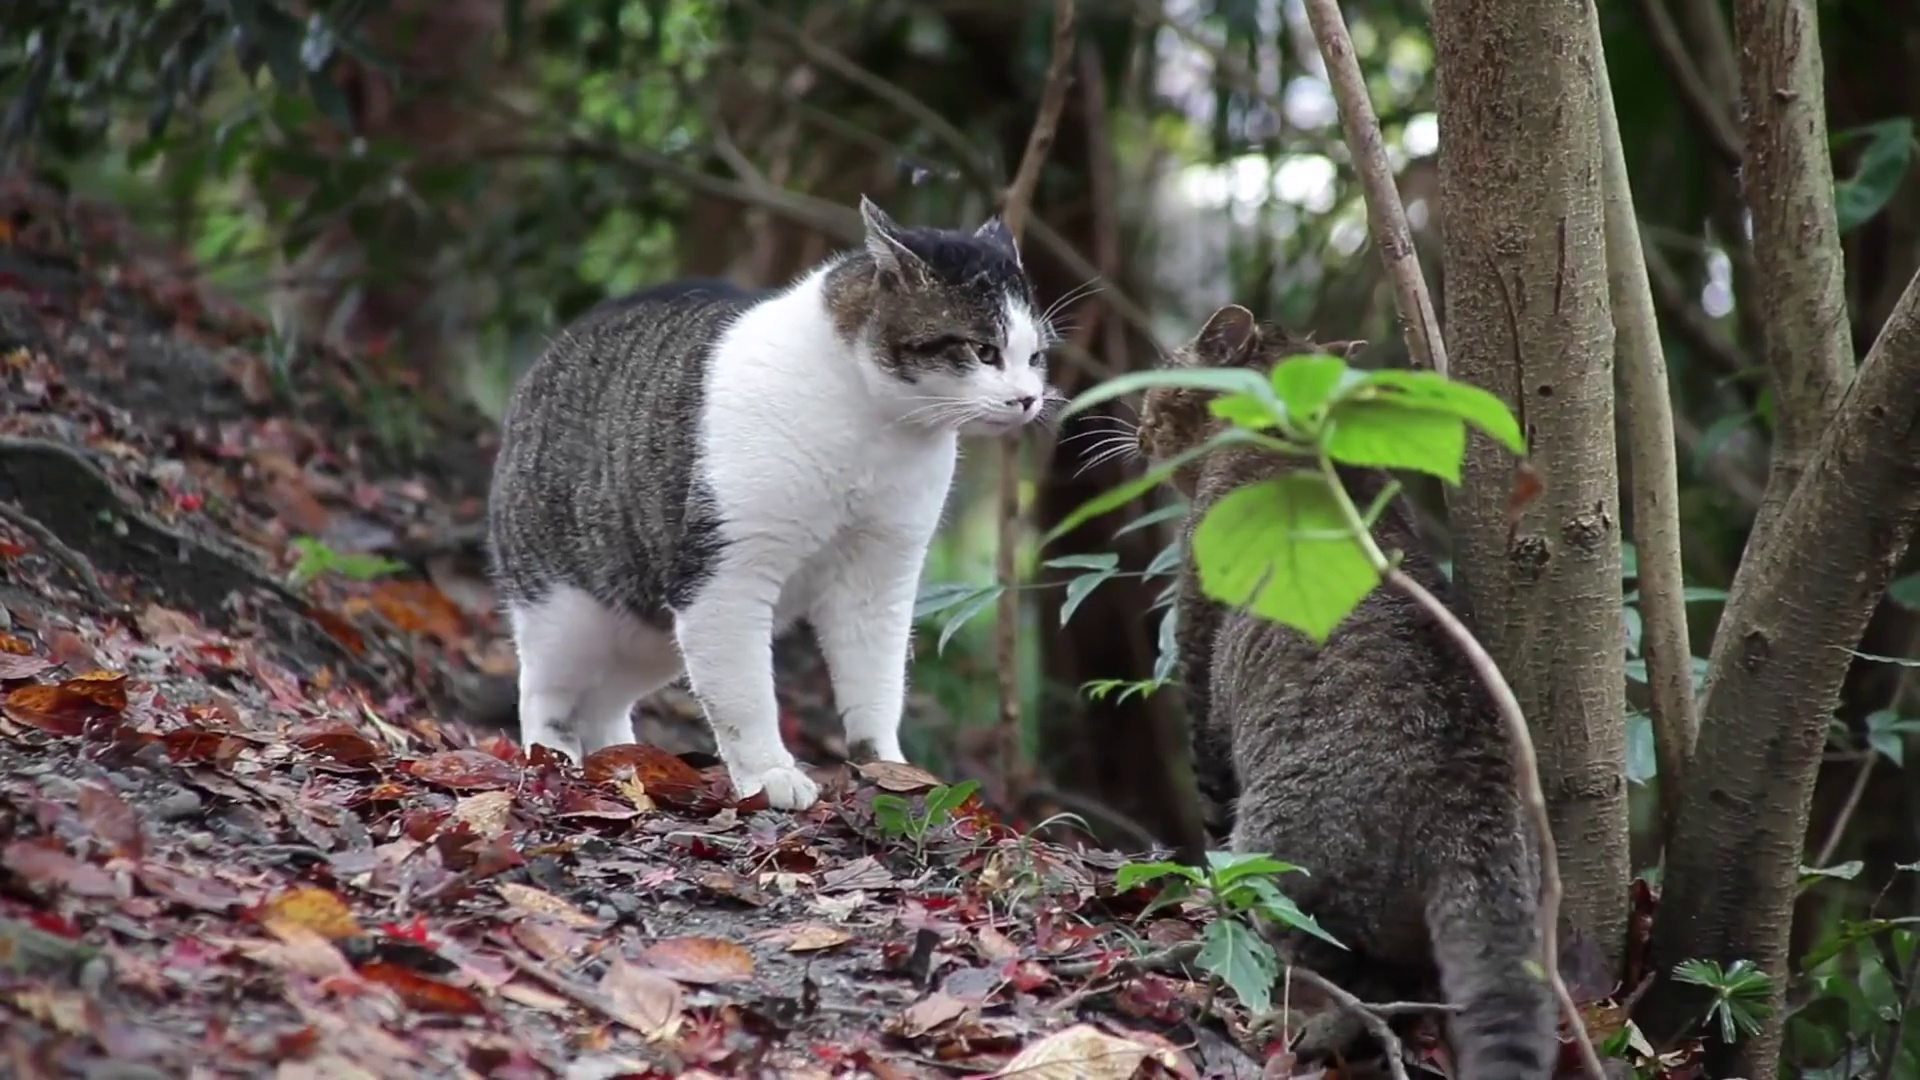black-white: (481, 195, 1051, 814)
pure black: (1135, 303, 1559, 1080)
